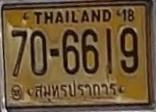0: (30, 30, 46, 75)
1: (105, 28, 112, 74)
6: (81, 28, 98, 73), (62, 29, 79, 74)
7: (11, 30, 26, 76)
9: (119, 27, 138, 72)
SPK: (32, 78, 120, 99)
